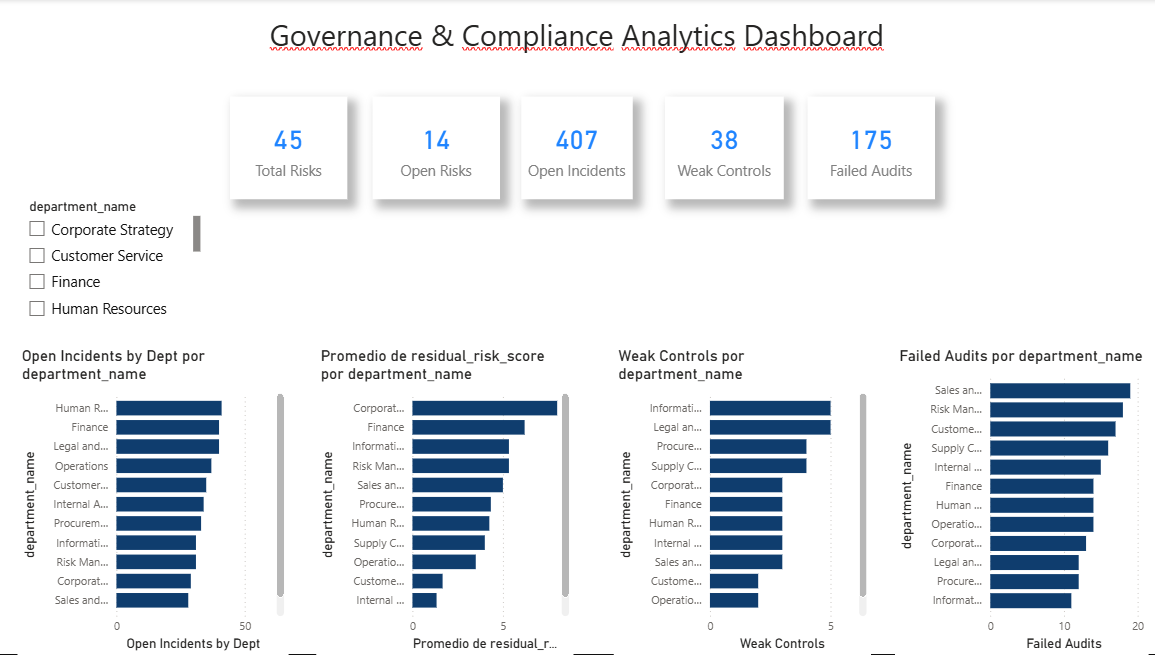

The page's visual inventory and layout, read from the dashboard file:
{"tool":"powerbi","page":{"name":"Governance & Compliance Analytics ","canvas":[1280,720],"ordinal":0},"visuals":[{"type":"card","fields":{"Values":["Medidas.Total Risks"]},"box":[258,107,129,112.5],"z":0},{"type":"card","fields":{"Values":["Medidas.Weak Controls"]},"box":[735.5,107,130.4,112.5],"z":1000},{"type":"card","fields":{"Values":["Medidas.Open Risks"]},"box":[414.4,107,140,112.5],"z":2000},{"type":"card","fields":{"Values":["Medidas.Open Incidents"]},"box":[577.7,107,122.1,112.5],"z":3000},{"type":"card","fields":{"Values":["Medidas.Failed Audits"]},"box":[891.9,107,140,112.5],"z":4000},{"type":"clusteredBarChart","fields":{"Category":["departments.department_name"],"Y":["Medidas.Open Incidents by Dept"]},"box":[24.2,381,297.8,338.9],"z":5000},{"type":"clusteredBarChart","fields":{"Category":["departments.department_name"],"Y":["Avg(risks.residual_risk_score)"]},"box":[352.1,381,282.7,338.9],"z":6000},{"type":"clusteredBarChart","fields":{"Category":["departments.department_name"],"Y":["Medidas.Weak Controls"]},"box":[678.7,381,282.7,338.9],"z":7000},{"type":"clusteredBarChart","fields":{"Category":["departments.department_name"],"Y":["Medidas.Failed Audits"]},"box":[987.4,381,278.6,338.9],"z":8000},{"type":"slicer","fields":{"Values":["departments.department_name"]},"box":[24.7,214.1,205.8,145.5],"z":9000},{"type":"textbox","box":[11,12.3,1255.6,71.4],"z":10000}]}

Visuals, with their boxes in screenshot pixels (x1, y1, x2, y2), scaled from the page's 1280x720 canvas onto the 1155x655 screenshot:
card - Medidas.Total Risks: select_region(233, 97, 349, 200)
card - Medidas.Weak Controls: select_region(664, 97, 781, 200)
card - Medidas.Open Risks: select_region(374, 97, 500, 200)
card - Medidas.Open Incidents: select_region(521, 97, 631, 200)
card - Medidas.Failed Audits: select_region(805, 97, 931, 200)
clusteredBarChart - departments.department_name x Medidas.Open Incidents by Dept: select_region(22, 347, 291, 654)
clusteredBarChart - departments.department_name x Avg(risks.residual_risk_score): select_region(318, 347, 573, 654)
clusteredBarChart - departments.department_name x Medidas.Weak Controls: select_region(612, 347, 868, 654)
clusteredBarChart - departments.department_name x Medidas.Failed Audits: select_region(891, 347, 1142, 654)
slicer - departments.department_name: select_region(22, 195, 208, 327)
textbox: select_region(10, 11, 1143, 76)
